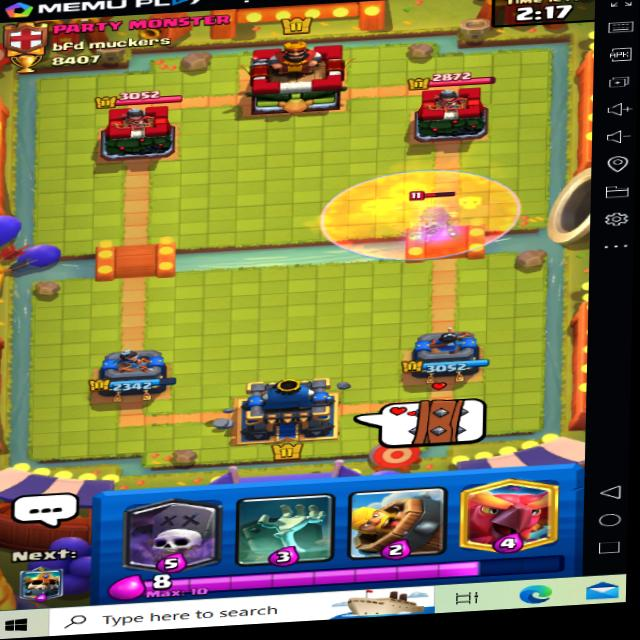archer-queen: (404, 182, 471, 244)
archer-queen-ability: (409, 185, 472, 246)
